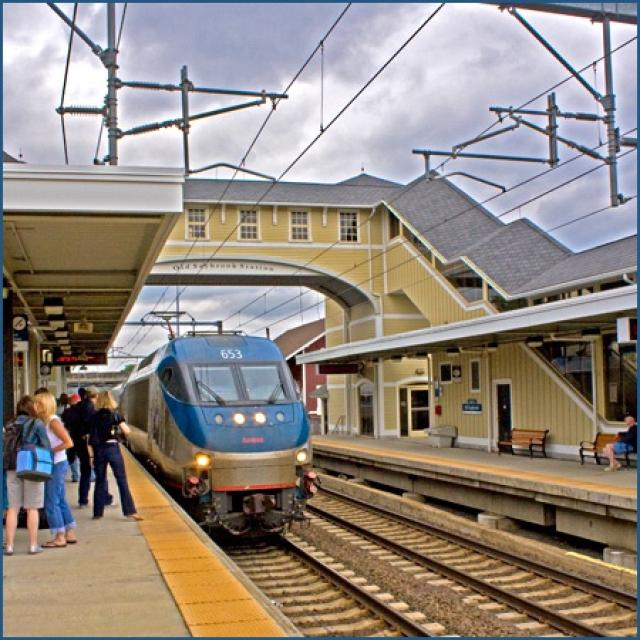body: (0, 392, 58, 557), (85, 387, 148, 522), (31, 390, 80, 550), (76, 390, 112, 510), (30, 387, 61, 520), (60, 392, 100, 487), (601, 411, 640, 473), (74, 385, 94, 407), (56, 391, 72, 417)
